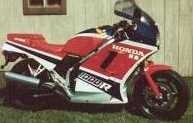motorcycle: (1, 2, 188, 119)
